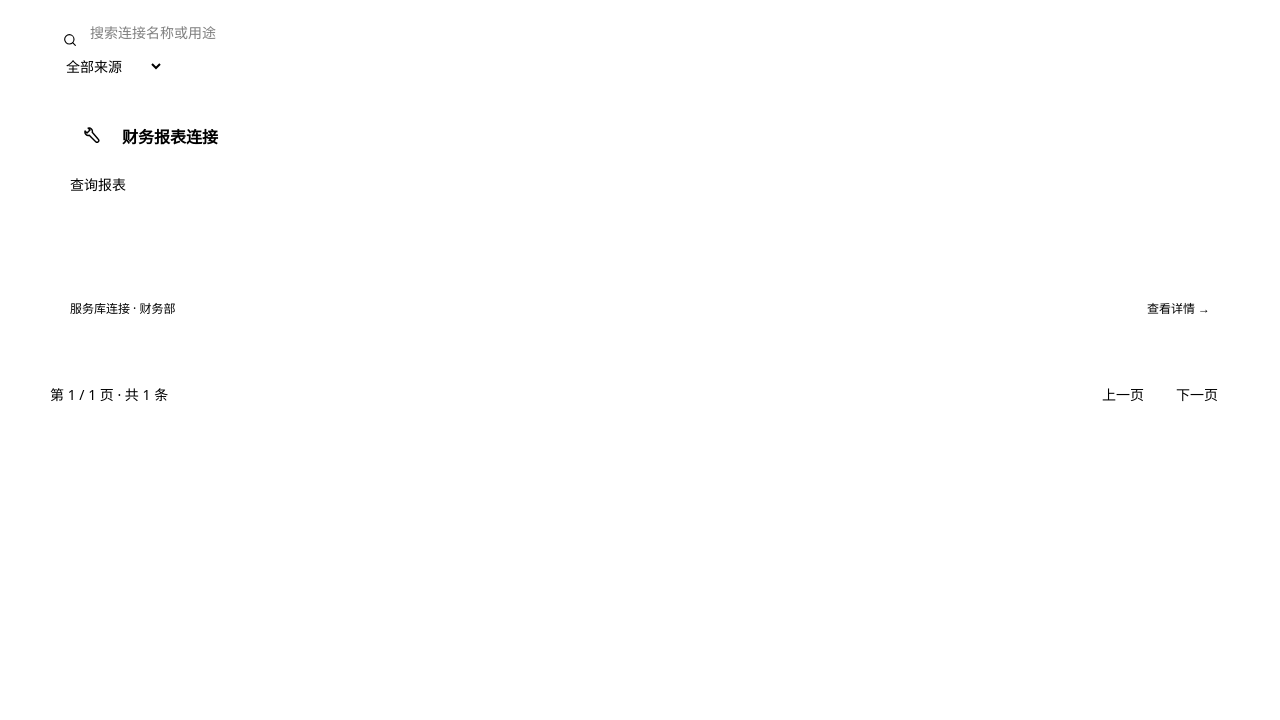
ordinary members see their connection access source without sharing controls or credentials
What coordinates should you click on to do the following:
click the button "财务报表连接 查询报表 服务库连接 · 财务部 查看详情 →"
I would click on:
 (640, 217)
Its box is [50,97,1230,337].
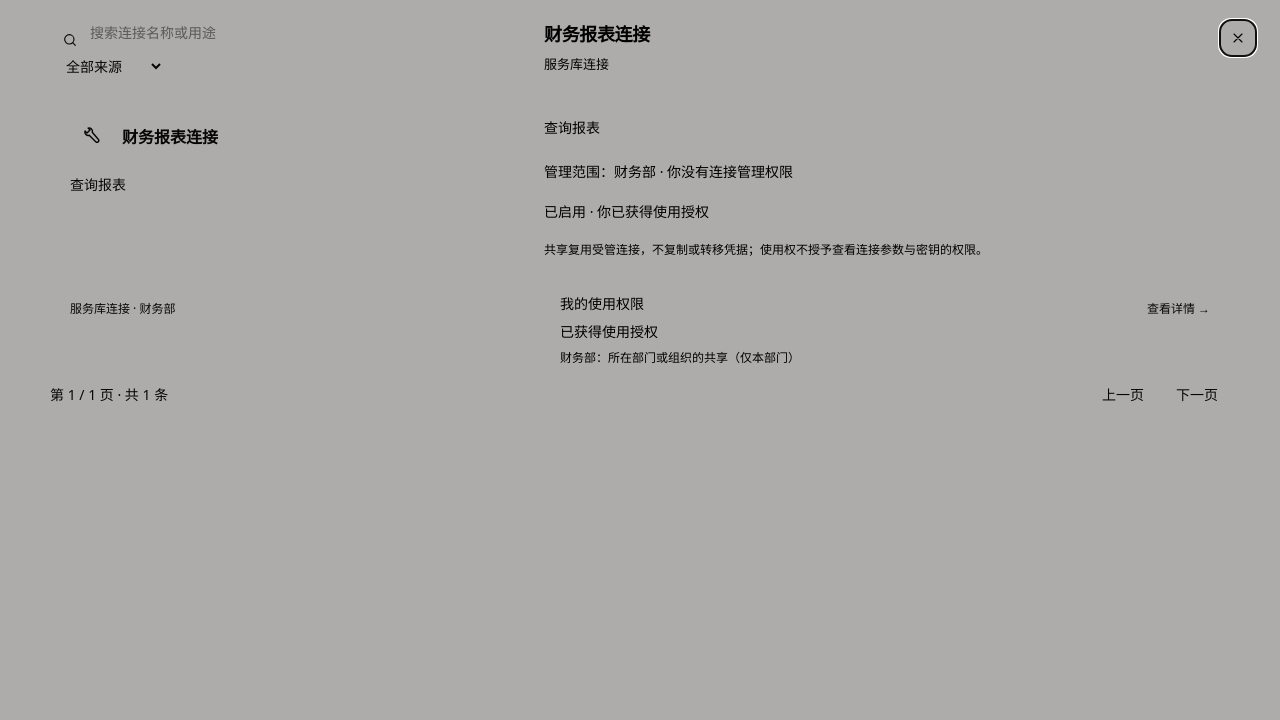
Expected: the text "财务部：所在部门或组织的共享（仅本部门）" is shown, [560,349,800,366]
